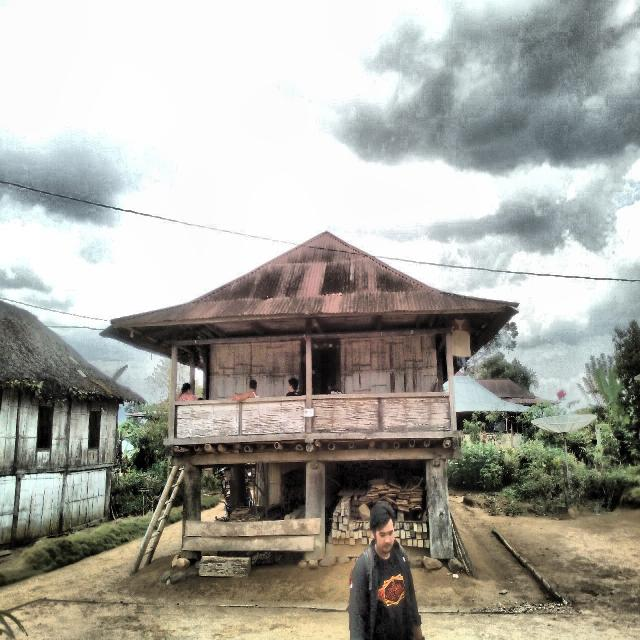column: (426, 459, 454, 559), (306, 461, 325, 560), (181, 464, 201, 538)
ornamen: (381, 397, 451, 432), (312, 398, 379, 432), (242, 401, 306, 435), (177, 403, 239, 438)
roof: (103, 232, 516, 352), (0, 301, 144, 401), (454, 375, 528, 412), (476, 379, 542, 405)
stair: (131, 465, 183, 573)
wall: (340, 335, 441, 393), (209, 341, 301, 399), (17, 390, 69, 468), (16, 472, 63, 543), (69, 397, 117, 466), (62, 468, 106, 531), (0, 386, 18, 469), (0, 475, 16, 544)
window: (37, 404, 53, 449), (88, 410, 101, 448)
